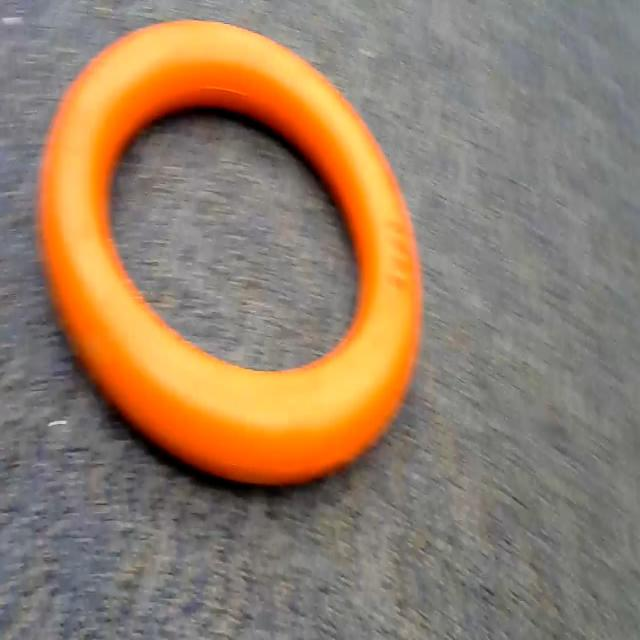note: (38, 0, 426, 508)
